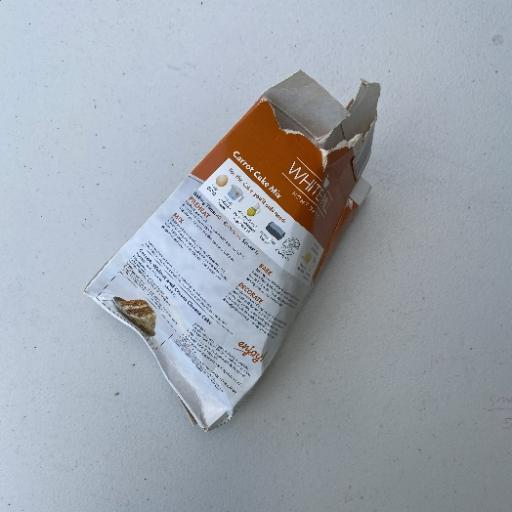Cardboard: (82, 67, 382, 433)
